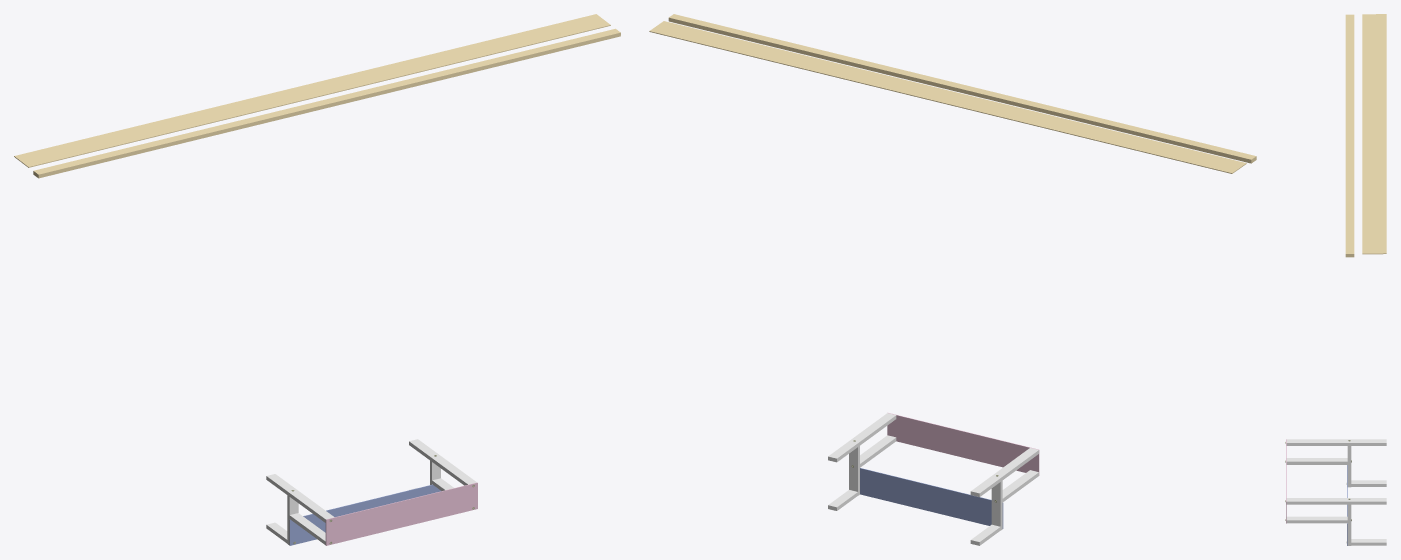
Rendered from tinker.obj.
3 renders of one model, left to right at view 1: azimuth 30°, elevation 25°; view 2: azimuth 150°, elevation 25°; view 3: azimuth 270°, elevation 25°, orthographic. The views are drawn at different scales.
Parts seen in each view (by area): view 1: group_0_16311991, group_0_16109284, group_0_16448250, group_0_10531038; view 2: group_0_16311991, group_0_16448250, group_0_16109284, group_0_10531038; view 3: group_0_16311991, group_0_16448250.
Boxes of the visible parts, box(x1,y1,x2,y2) form: group_0_16311991: box(14, 14, 620, 178); group_0_16109284: box(325, 482, 477, 545); group_0_16448250: box(266, 439, 476, 545); group_0_10531038: box(289, 484, 441, 545); group_0_16311991: box(649, 14, 1256, 173); group_0_16448250: box(828, 413, 1038, 545); group_0_16109284: box(887, 412, 1039, 475); group_0_10531038: box(860, 468, 1003, 528); group_0_16311991: box(1345, 14, 1386, 257); group_0_16448250: box(1286, 439, 1386, 545).
Size of the model in its own units: 96 by 68.4 by 17.17.
